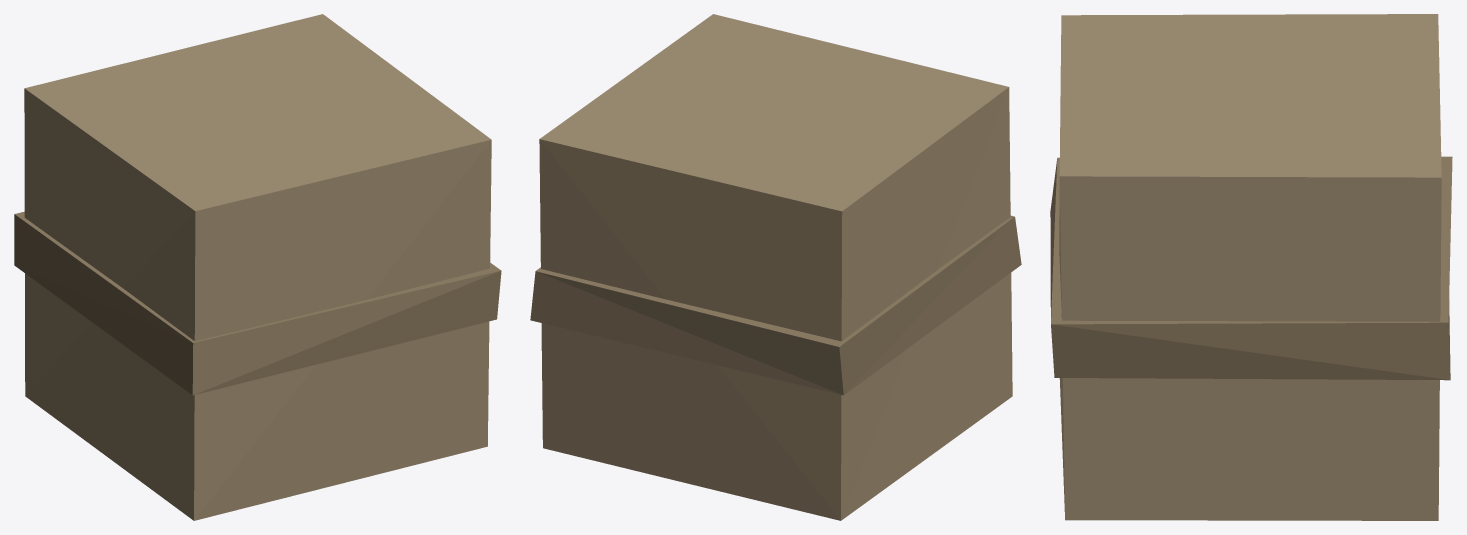
Rendered from crate.glb.
The picture shows the model from 3 angles, left to right: view 1: azimuth 30°, elevation 25°; view 2: azimuth 150°, elevation 25°; view 3: azimuth 270°, elevation 25°; orthographic projection. The views are drawn at different scales.
Visible parts, largest first — view 1: body; view 2: body; view 3: body.
Boxes of the visible parts, bbox=[...] form: body: bbox=[14, 14, 501, 520]; body: bbox=[530, 14, 1021, 520]; body: bbox=[1050, 14, 1452, 520].
Size of the model in its own units: 1.05 by 1 by 1.06.
